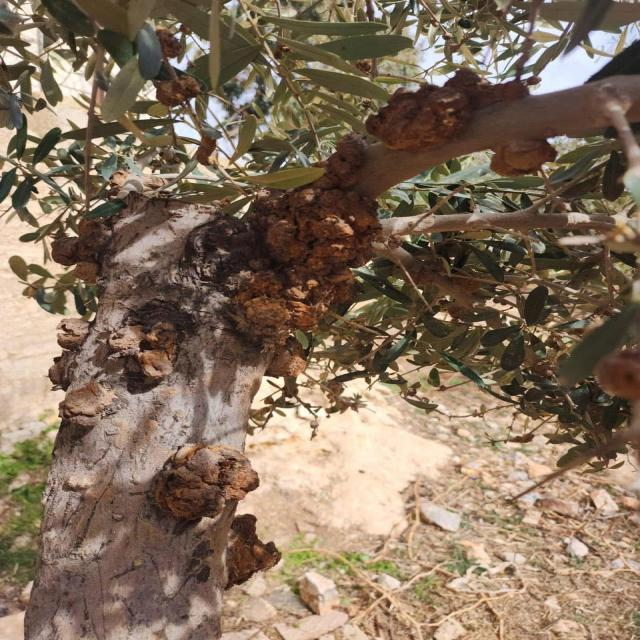Tuberculosis: (200, 135, 381, 351), (366, 71, 489, 151), (155, 444, 259, 520), (225, 514, 281, 589), (47, 318, 92, 390), (491, 140, 557, 176), (60, 382, 115, 418), (155, 74, 200, 106), (133, 350, 171, 379)
